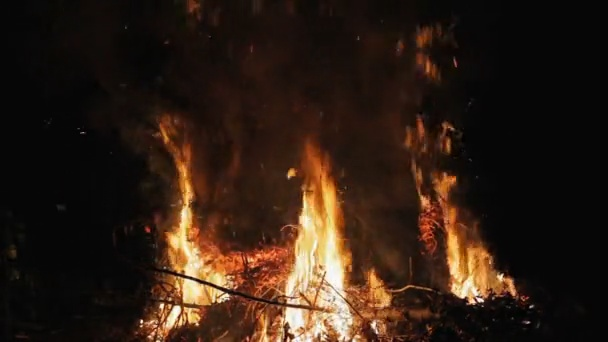fire: (282, 161, 349, 339), (433, 180, 491, 300), (164, 243, 228, 323), (174, 153, 191, 244)
